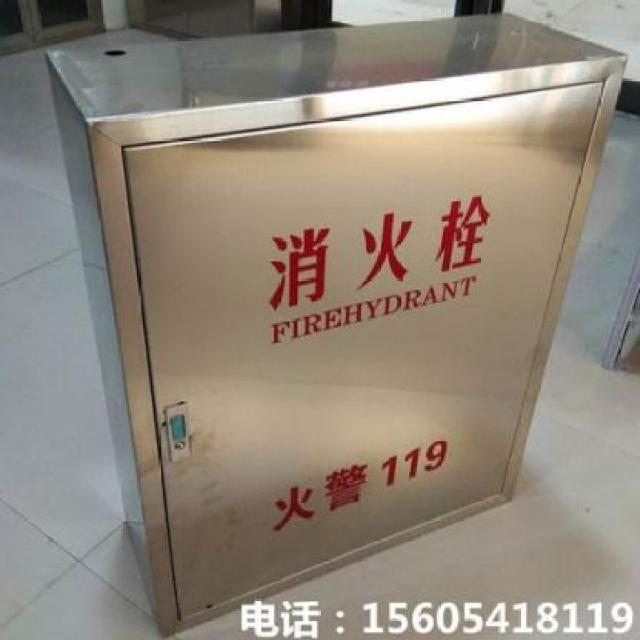firehydrant: (42, 6, 636, 639)
